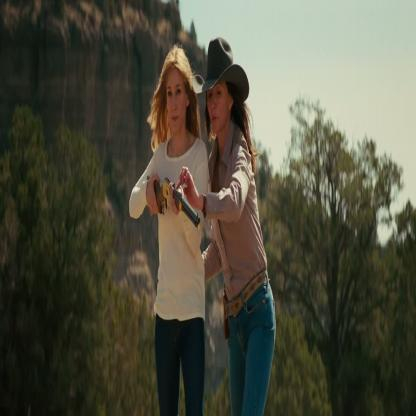gun: (152, 162, 205, 245)
